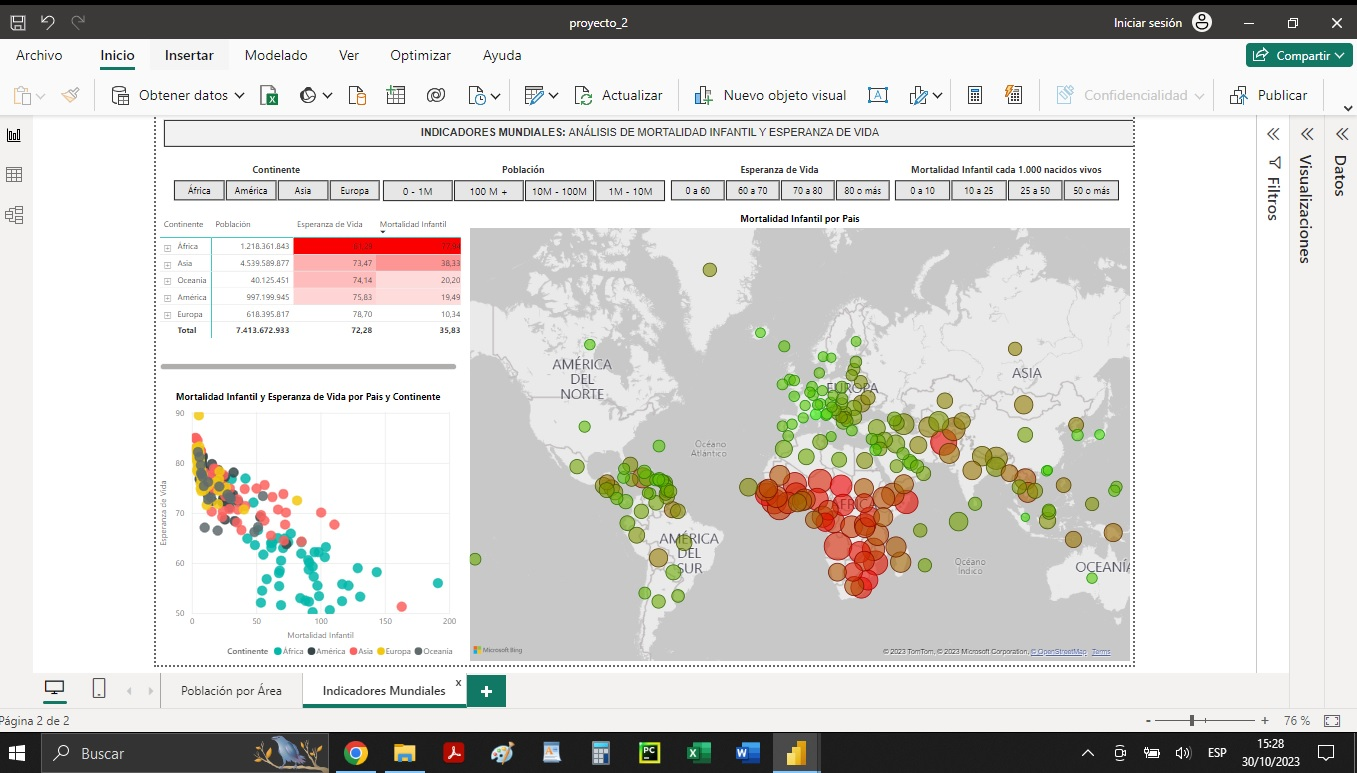

The page's visual inventory and layout, read from the dashboard file:
{"tool":"powerbi","page":{"name":"Indicadores Mundiales","canvas":[1280,720],"ordinal":1},"visuals":[{"type":"pivotTable","fields":{"Values":["Sum(Population.Population)","Avg(Esperanza de Vida.Esperanza de Vida)","Avg(Mortalidad Infantil.Mortalidad Infantil)"],"Rows":["Paises.Continente","Paises.Pais"]},"box":[0,126.5,404,211.8],"z":0},{"type":"slicer","fields":{"Values":["Esperanza de Vida.Esp. de Vida"]},"box":[653.9,57.5,325.9,59.6],"z":1000},{"type":"slicer","fields":{"Values":["Paises.Continente"]},"box":[3.1,57.5,309.5,59.6],"z":2000},{"type":"map","title":"Mortalidad Infantil por Pais","fields":{"Category":["Paises.Pais"],"Size":["Avg(Mortalidad Infantil.Mortalidad Infantil)"]},"box":[406.1,126.5,873.9,593.2],"z":3000},{"type":"slicer","fields":{"Values":["Population.Cantidad Población"]},"box":[276.6,57.5,409.2,59.6],"z":4000},{"type":"slicer","fields":{"Values":["Mortalidad Infantil.Muertes / 1000 Nacimientos"]},"box":[946.9,57.5,333.1,59.6],"z":5000},{"type":"scatterChart","fields":{"X":["Avg(Mortalidad Infantil.Mortalidad Infantil)"],"Y":["Avg(Esperanza de Vida.Esperanza de Vida)"],"Category":["Paises.Pais"],"Series":["Paises.Continente"]},"box":[0,359.8,397.9,359.8],"z":6000},{"type":"textbox","box":[10.3,7.2,1269.7,35],"z":7000}]}

Visuals, with their boxes on the page's 1280x720 design canvas (x1, y1, x2, y2). These are canvas units, not pixel positions in the 1357x773 screenshot, which may show the page scaled, cropped or inside an application window:
pivotTable - Sum(Population.Population) x Avg(Esperanza de Vida.Esperanza de Vida): 0, 126, 404, 338
slicer - Esperanza de Vida.Esp. de Vida: 654, 58, 980, 117
slicer - Paises.Continente: 3, 58, 313, 117
"Mortalidad Infantil por Pais" map: 406, 126, 1280, 720
slicer - Population.Cantidad Población: 277, 58, 686, 117
slicer - Mortalidad Infantil.Muertes / 1000 Nacimientos: 947, 58, 1280, 117
scatterChart - Avg(Mortalidad Infantil.Mortalidad Infantil) x Avg(Esperanza de Vida.Esperanza de Vida): 0, 360, 398, 720
textbox: 10, 7, 1280, 42
